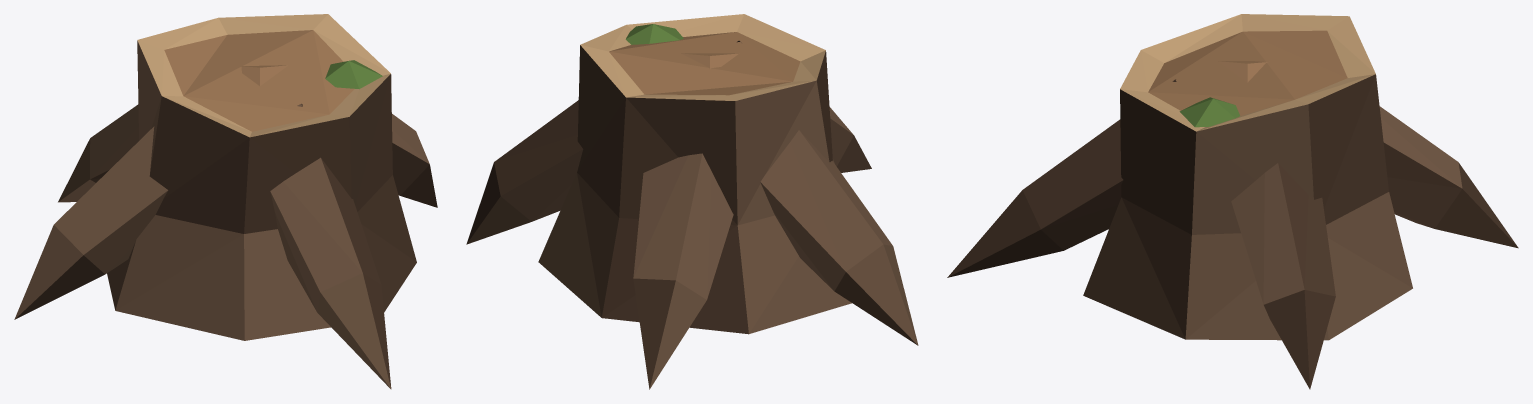
The model's file is stump.fbx.
3 views of the same model, side by side, from view 1: azimuth 30°, elevation 25°; view 2: azimuth 150°, elevation 25°; view 3: azimuth 270°, elevation 25° (orthographic). The views are drawn at different scales.
Visible parts, largest first — view 1: stump; view 2: stump; view 3: stump.
Part boxes in pixels (box(x1,y1,x2,y2)): stump: box(14, 14, 437, 389); stump: box(466, 14, 918, 389); stump: box(947, 14, 1518, 389).
Size of the model in its own units: 1.5 by 0.7376 by 1.65.
